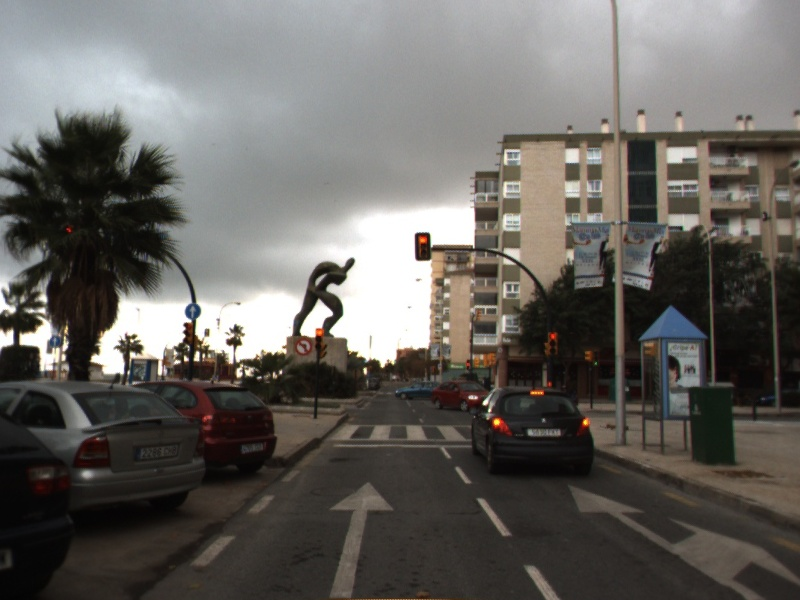STRAIGHT: (327, 480, 396, 599)
STRAIGHT_RIGHT: (566, 482, 800, 600)
